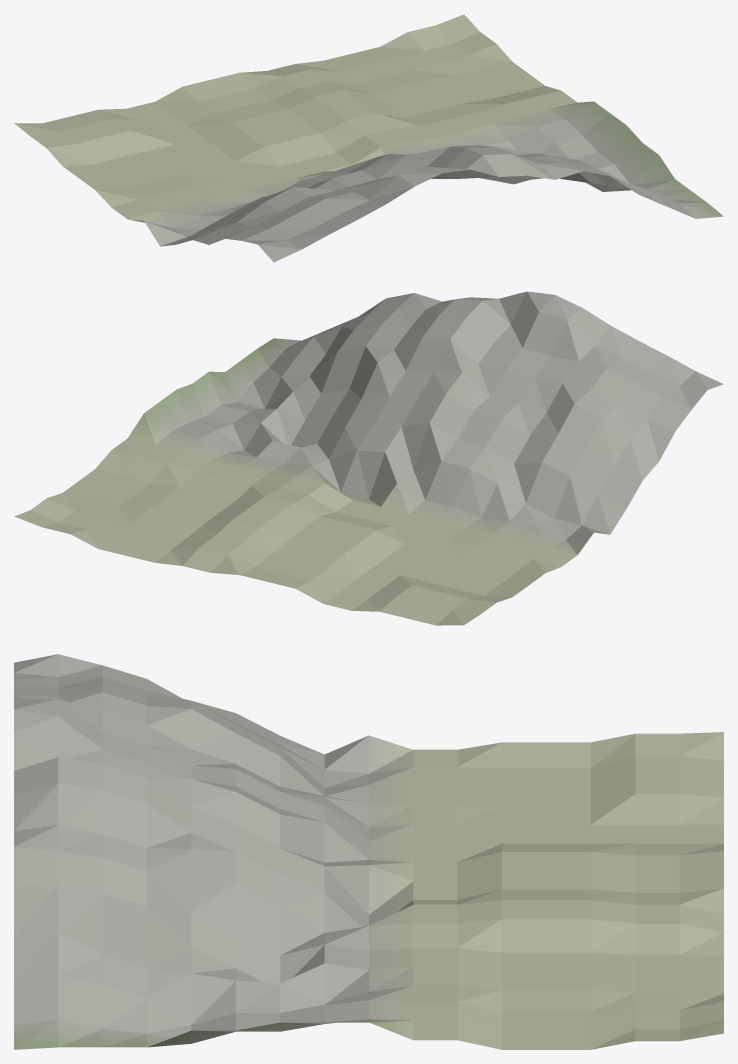
3 renders of one model, top to bottom at view 1: azimuth 30°, elevation 25°; view 2: azimuth 150°, elevation 25°; view 3: azimuth 270°, elevation 25°, orthographic. The views are drawn at different scales.
Size of the model in its own units: 32 by 8.41 by 32.
